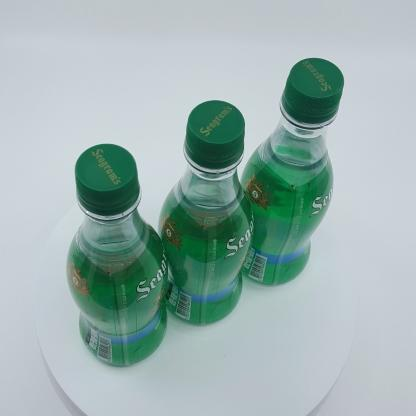--------350ML: (236, 58, 344, 285), (66, 144, 168, 366), (158, 100, 254, 325)
